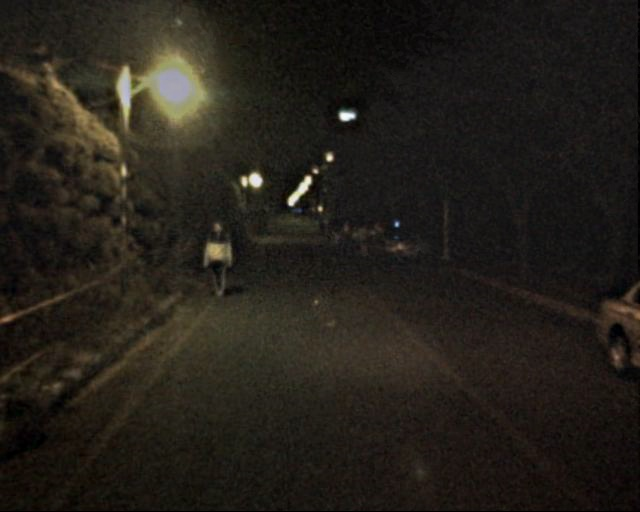person: (201, 219, 233, 298), (357, 224, 374, 266), (319, 219, 338, 248)
